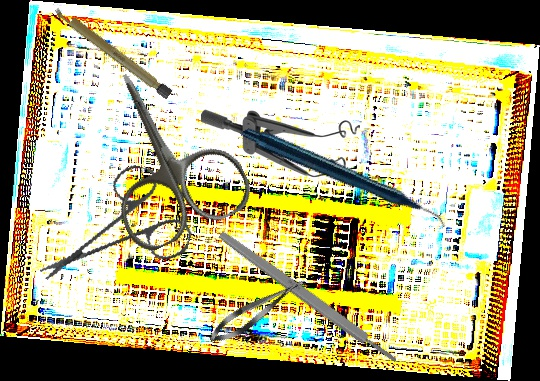Handpiece: (240, 67, 446, 292)
Iris Scissors: (66, 46, 259, 258), (38, 148, 205, 313)
Micro Scissor: (204, 271, 311, 350)
Scalpel Handle: (216, 228, 400, 367), (52, 4, 174, 100)
Speculum: (201, 109, 360, 180)
